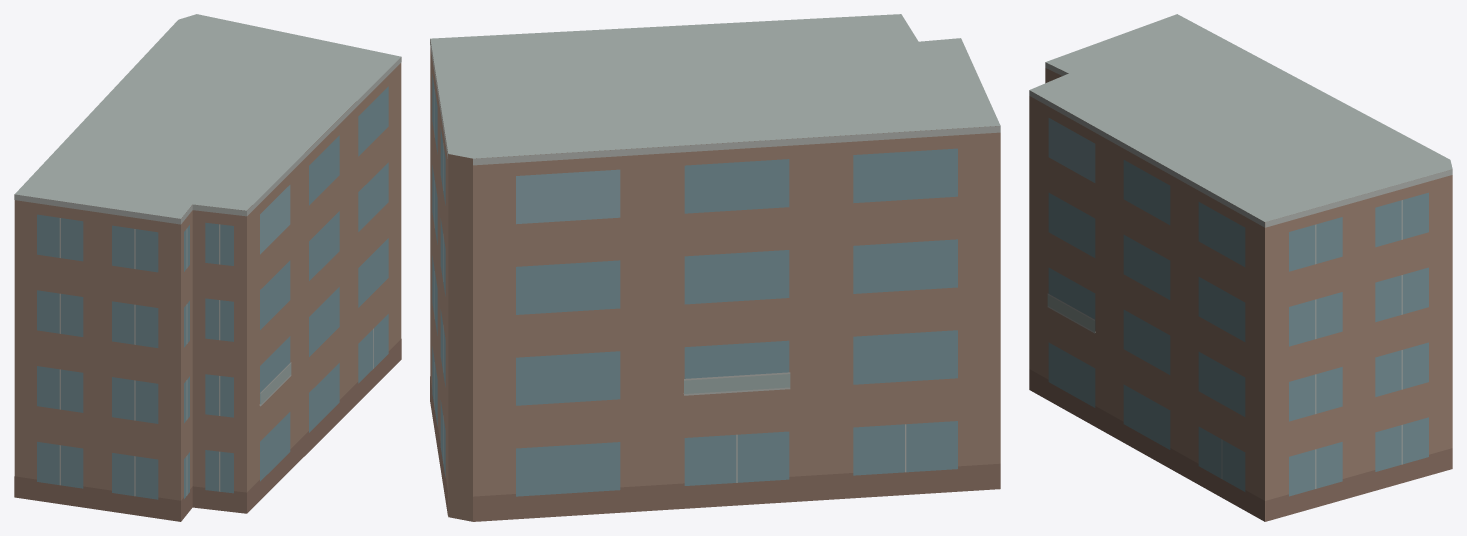
Rendered from survey-upis-32803578.glb.
The picture shows the model from 3 angles, left to right: view 1: azimuth 30°, elevation 25°; view 2: azimuth 150°, elevation 25°; view 3: azimuth 270°, elevation 25°; orthographic projection. The views are drawn at different scales.
Parts seen in each view (by area): view 1: survey-upis-32803578.tmp; view 2: survey-upis-32803578.tmp; view 3: survey-upis-32803578.tmp.
Boxes of the visible parts, x1,y1,x2,y2 form: survey-upis-32803578.tmp: [14, 14, 401, 521]; survey-upis-32803578.tmp: [430, 14, 1000, 521]; survey-upis-32803578.tmp: [1029, 14, 1452, 521].
Size of the model in its own units: 19.44 by 13.04 by 16.7.
